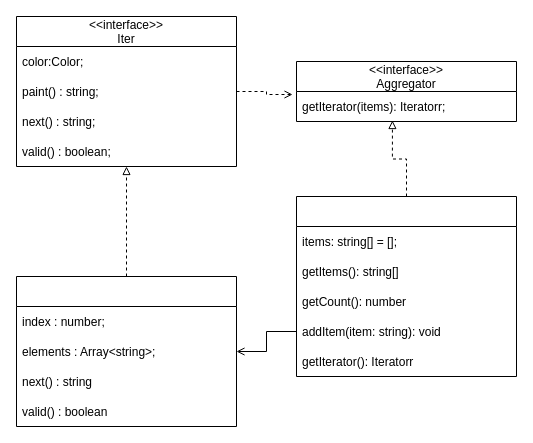
Image size: 533x443. Some labels were removed from this diagram. The shapes that lost their labels are listed below. From the top down, each one's box as (x1, y1, x2, y2) in pixels, then its label:
(296, 196, 516, 376): WordsCollection
(16, 276, 236, 426): Iteratorr
